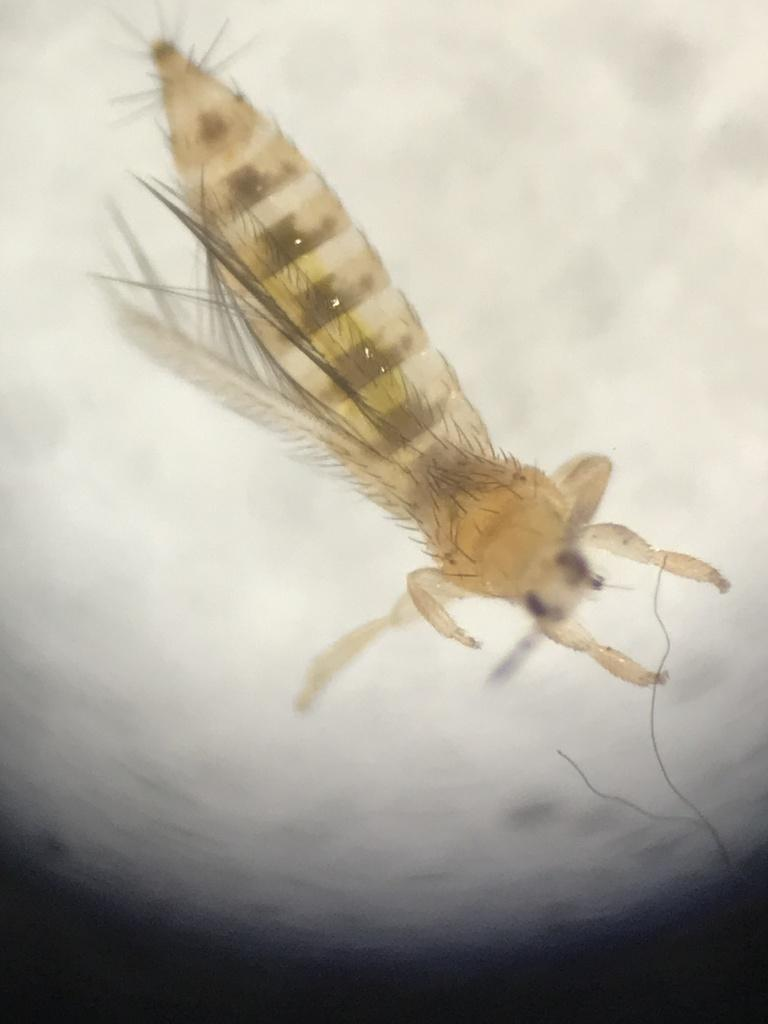tiny_pests: (0, 14, 768, 803)
